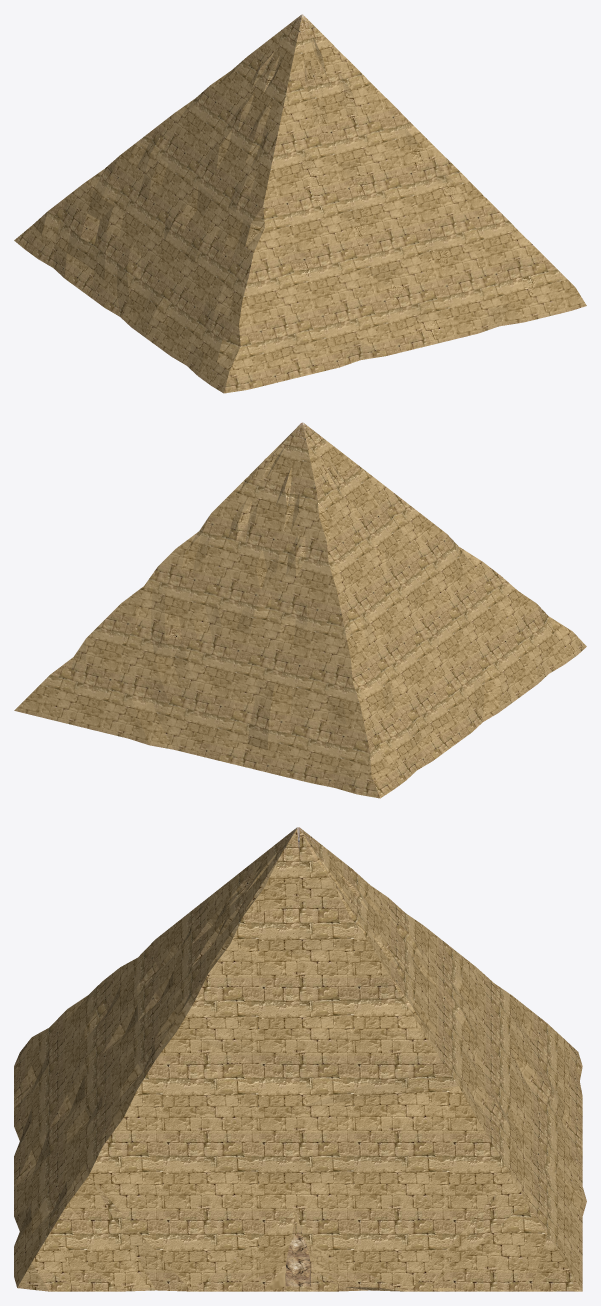
Rendered from piramide.glb.
3 renders of one model, top to bottom at view 1: azimuth 30°, elevation 25°; view 2: azimuth 150°, elevation 25°; view 3: azimuth 270°, elevation 25°, orthographic. The views are drawn at different scales.
Parts seen in each view (by area): view 1: Cube; view 2: Cube; view 3: Cube.
Boxes of the visible parts, x1,y1,x2,y2 form: Cube: [14, 14, 586, 393]; Cube: [14, 422, 586, 798]; Cube: [14, 827, 586, 1291].
Size of the model in its own units: 4462 by 2975 by 4496.
Materials: 8 (8 with a texture image).
